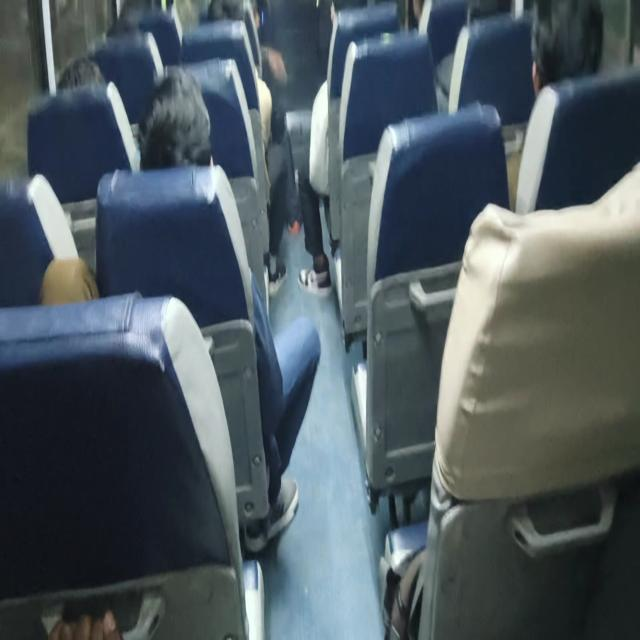person: (526, 0, 604, 93), (149, 76, 209, 171), (201, 0, 250, 49), (53, 45, 97, 90), (325, 0, 387, 25), (103, 16, 149, 42)
